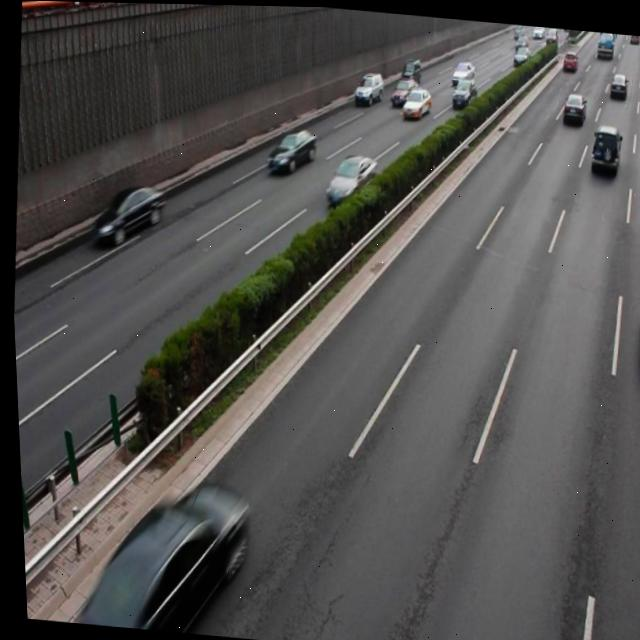car: (90, 477, 243, 637), (87, 178, 164, 246), (321, 148, 376, 205), (263, 122, 317, 173), (585, 120, 619, 176), (398, 84, 431, 120), (629, 281, 640, 367)
